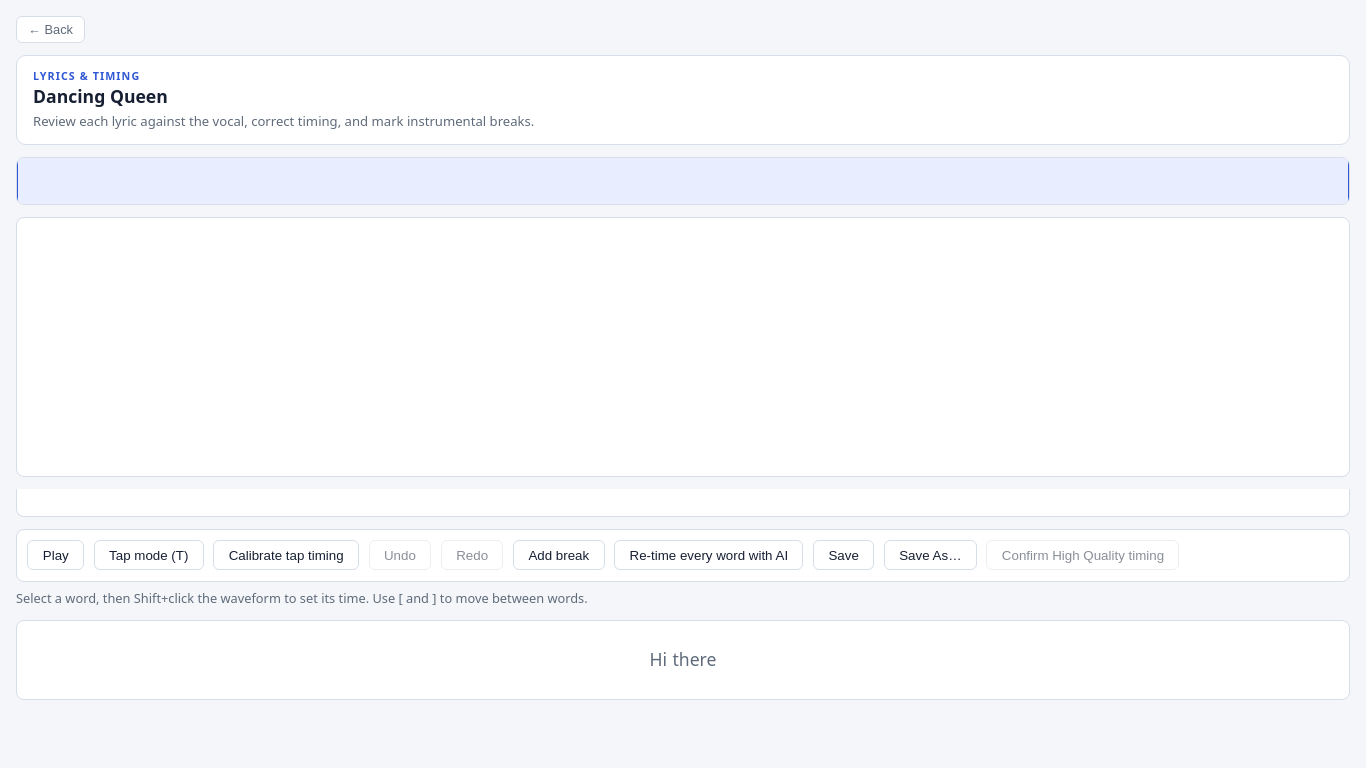
LyricEditor › an edit made after a successful Save makes the document dirty again
Click the button "Hi" at (658, 660), box [647,644,670,676]
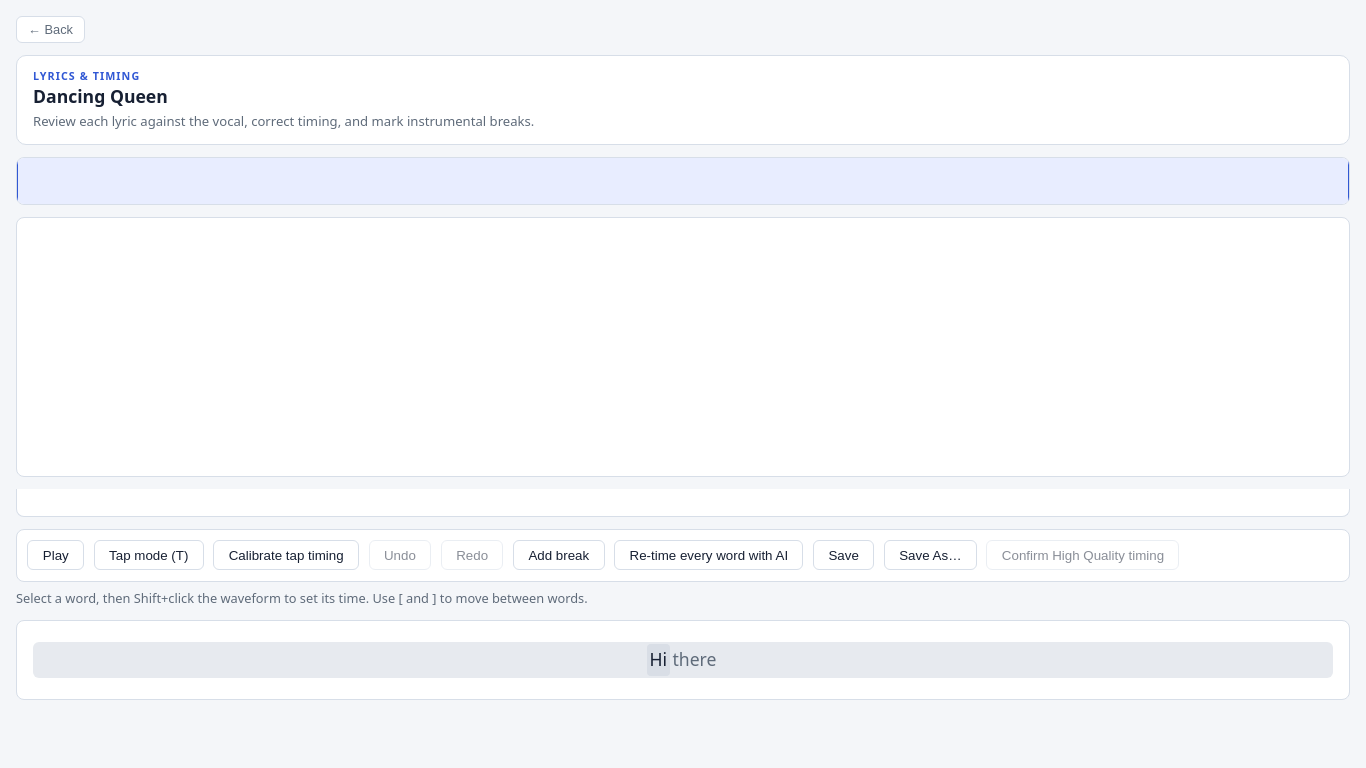
Press ArrowRight
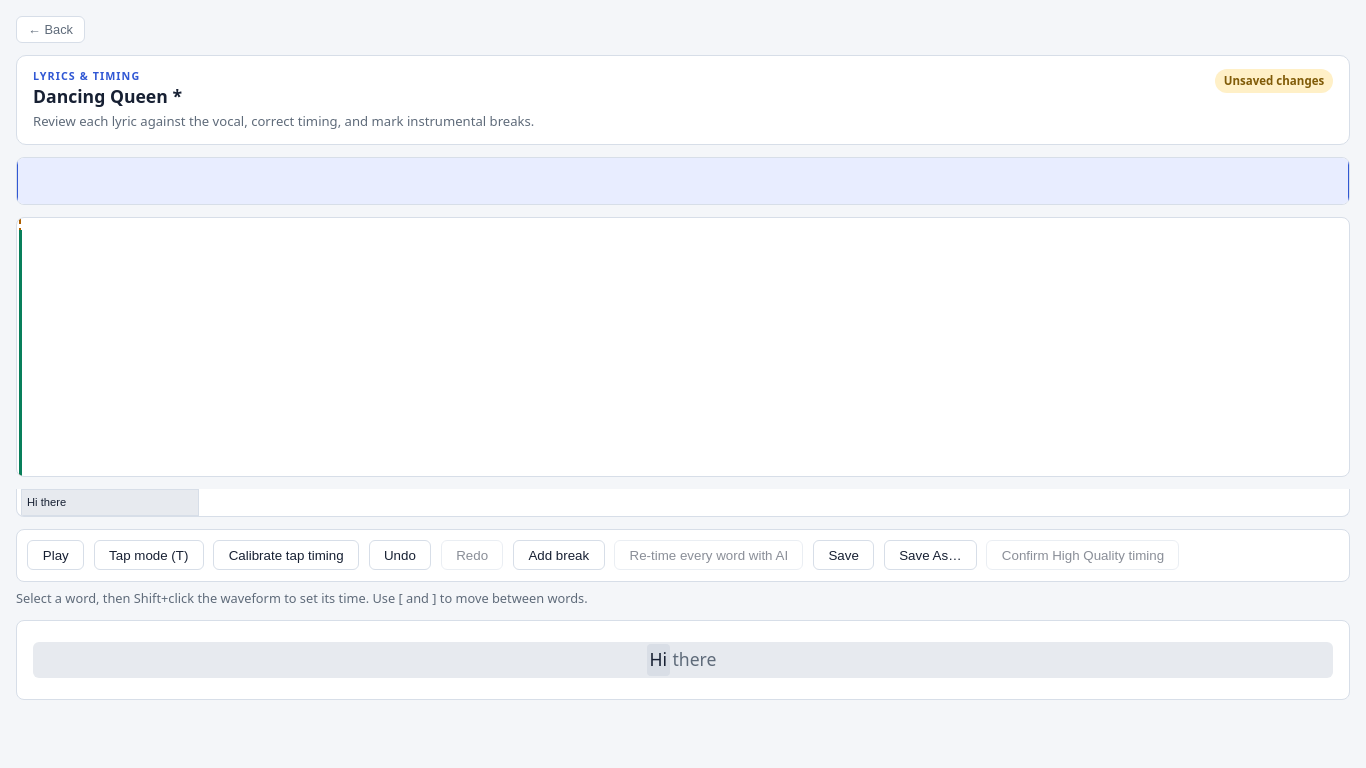
Click the button "Save" at (844, 555), box [813,540,874,570]
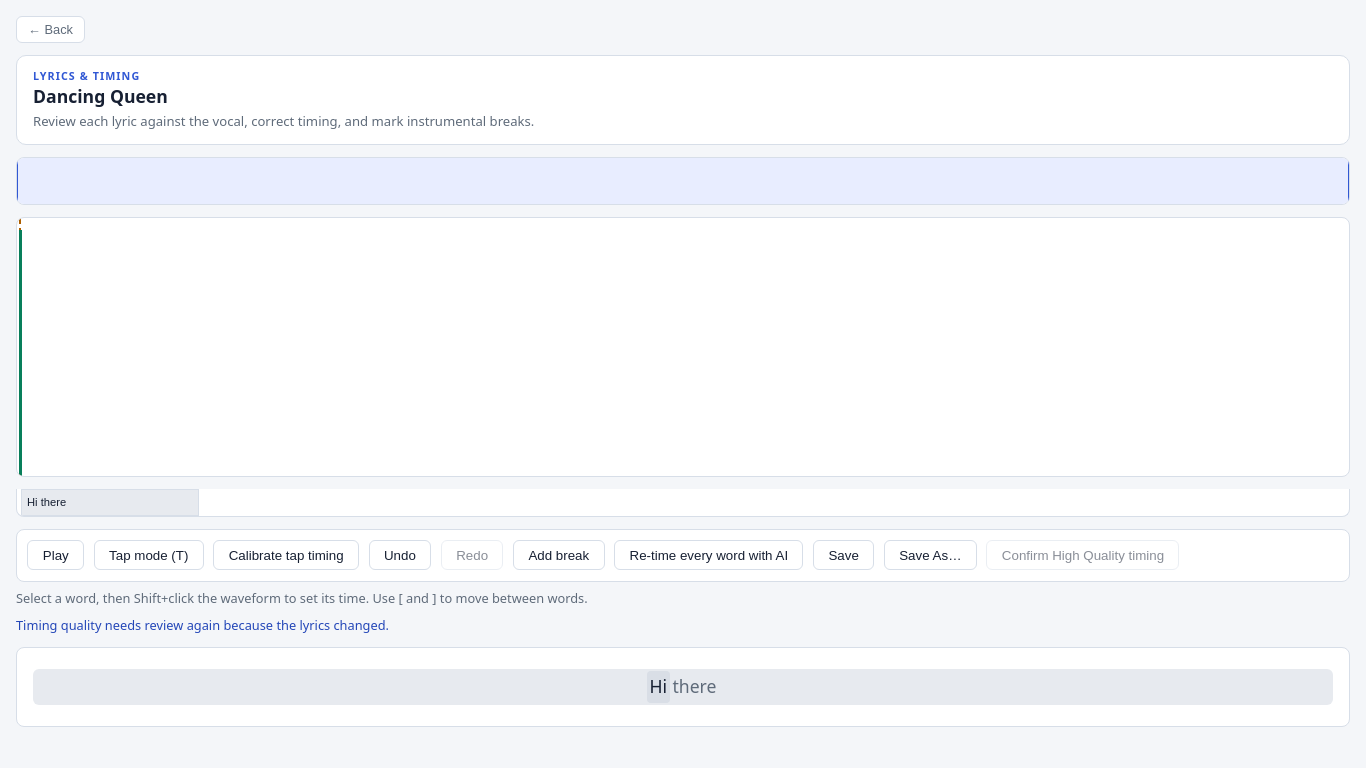
Expected: the text "Unsaved changes" is gone
Click the button "there" at (694, 687), box [670,671,719,703]
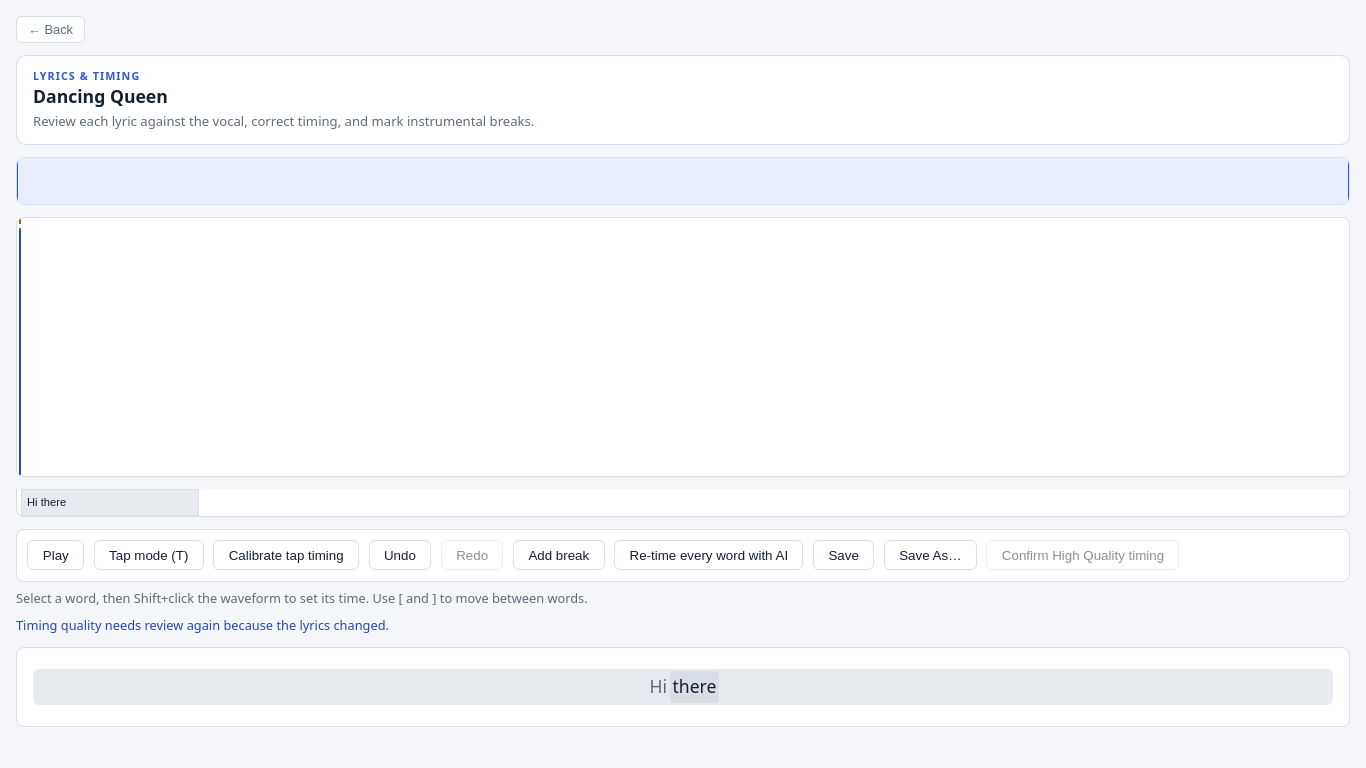
Press ArrowRight
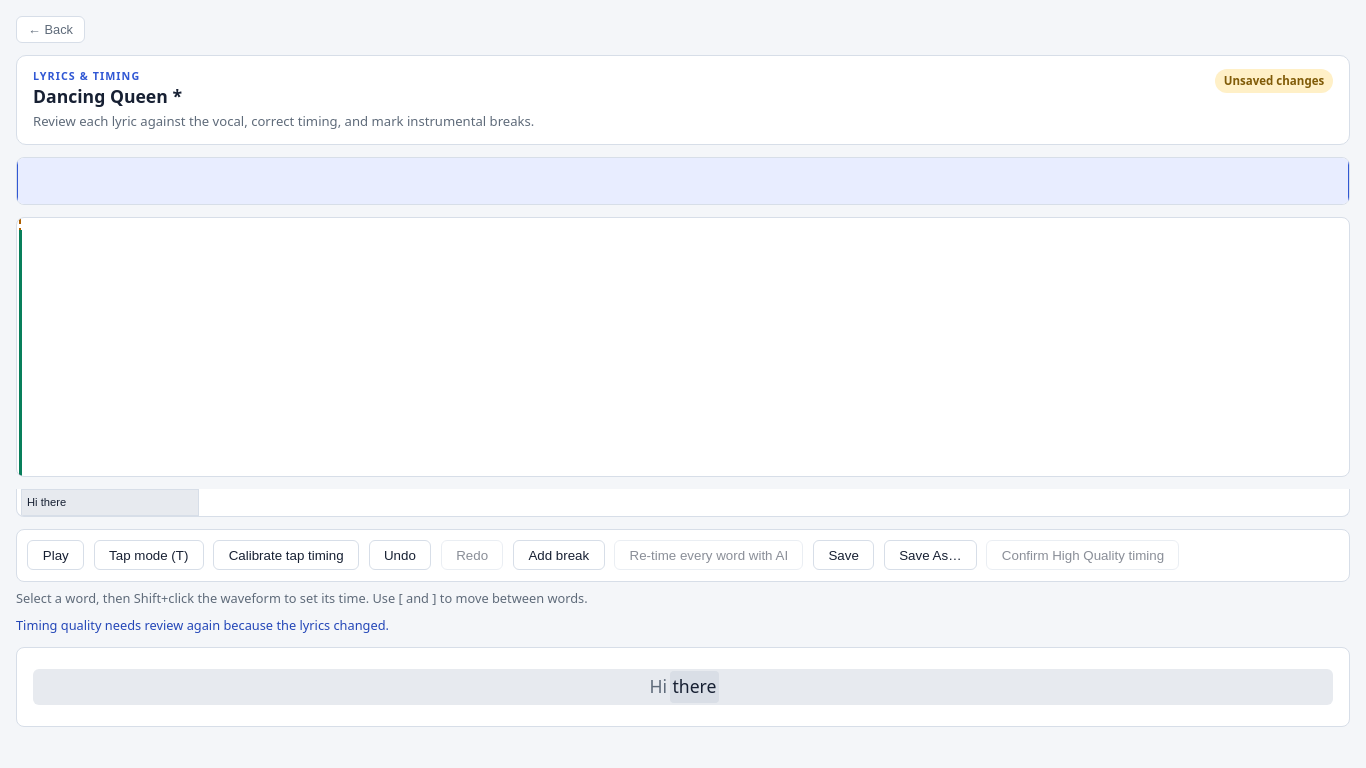
Expected: the text "Unsaved changes" is shown, [1215,69,1333,93]
